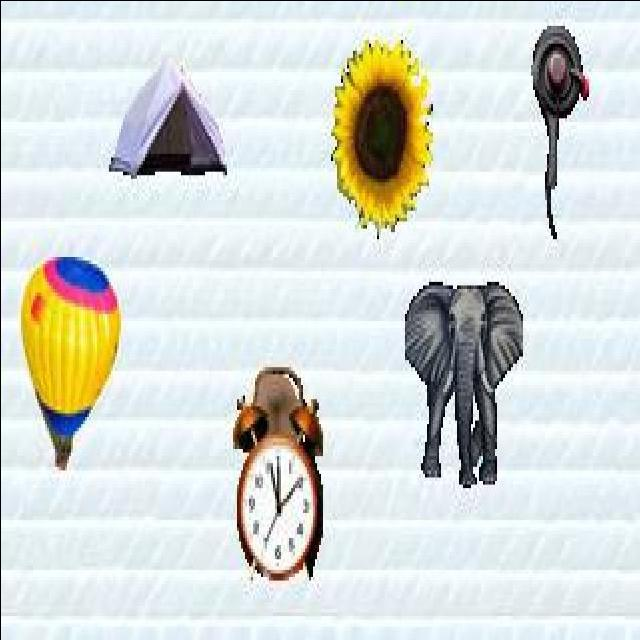Other Objects: (20, 254, 119, 471), (232, 364, 324, 594), (528, 24, 590, 239)
